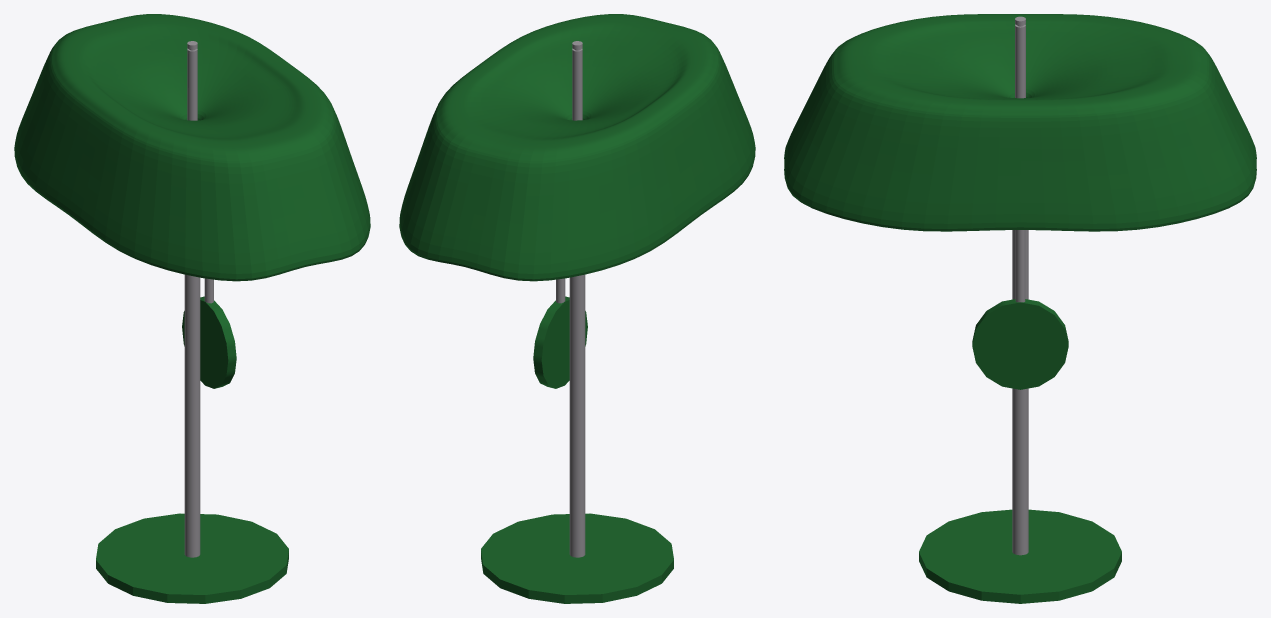
File: Lamp.glb
The picture shows the model from 3 angles, left to right: view 1: azimuth 30°, elevation 25°; view 2: azimuth 150°, elevation 25°; view 3: azimuth 270°, elevation 25°; orthographic projection. The views are drawn at different scales.
Parts seen in each view (by area): view 1: Lamp Head, Base, Pole, Pendulumn, Pole.002; view 2: Lamp Head, Base, Pole, Pendulumn, Pole.002; view 3: Lamp Head, Base, Pendulumn, Pole, Pole.002, Pole.001.
Part boxes in pixels (bbox=[...]): Lamp Head: bbox=[14, 14, 370, 281]; Base: bbox=[96, 513, 288, 603]; Pole: bbox=[184, 274, 200, 557]; Pendulumn: bbox=[182, 296, 236, 388]; Pole.002: bbox=[187, 41, 197, 120]; Lamp Head: bbox=[399, 14, 755, 281]; Base: bbox=[481, 513, 673, 603]; Pole: bbox=[569, 274, 585, 557]; Pendulumn: bbox=[533, 296, 587, 388]; Pole.002: bbox=[572, 41, 582, 120]; Lamp Head: bbox=[784, 14, 1256, 231]; Base: bbox=[919, 509, 1121, 603]; Pendulumn: bbox=[972, 299, 1068, 389]; Pole: bbox=[1012, 230, 1028, 555]; Pole.002: bbox=[1015, 16, 1025, 98]; Pole.001: bbox=[1015, 230, 1025, 302].
Size of the model in its own units: 1.47 by 2.94 by 2.33.
